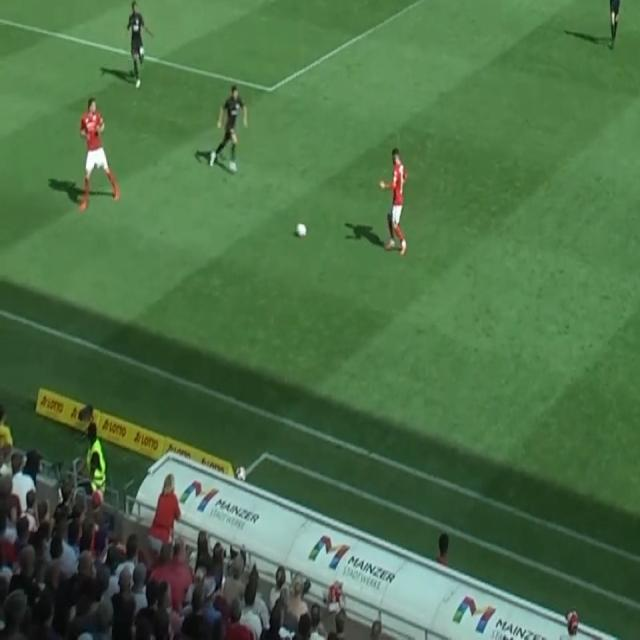ball: (295, 221, 308, 238)
